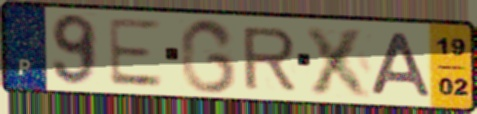9: (48, 11, 101, 89)
A: (367, 30, 435, 99)
E: (105, 15, 166, 89)
G: (178, 16, 239, 96)
R: (239, 25, 299, 92)
X: (302, 24, 377, 100)
